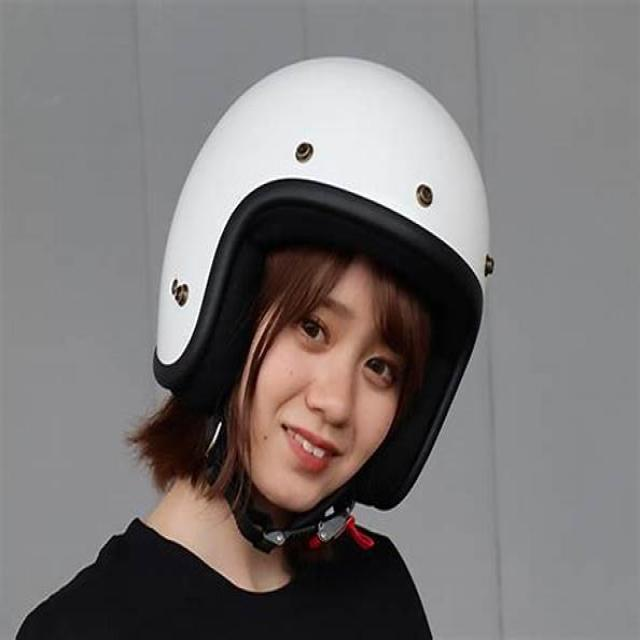helmet: (143, 42, 504, 562)
